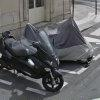Motorcycle: (1, 25, 70, 91)
